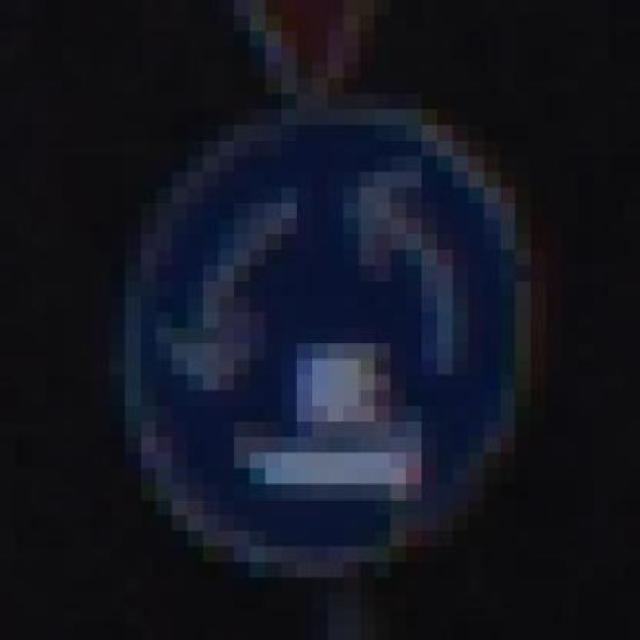Round-About: (78, 62, 562, 593)
